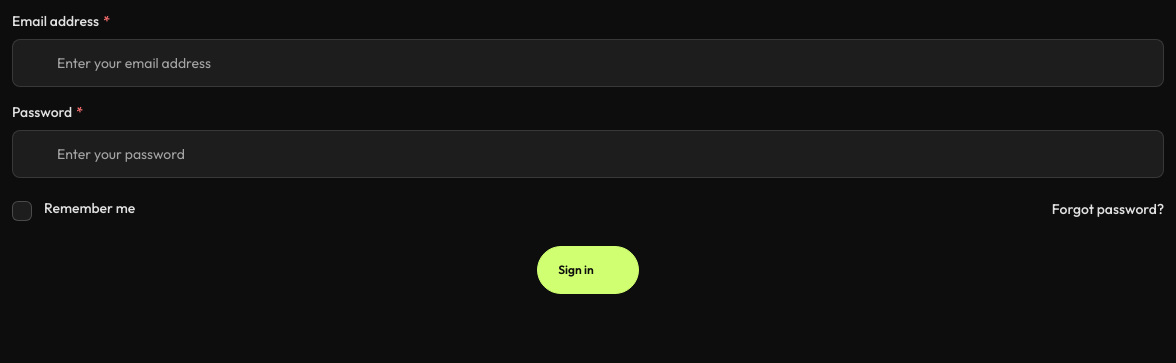
Test case: LoginForm › validates the form before making a request
Click the button "Sign in": (588, 270) [537, 246, 639, 294]
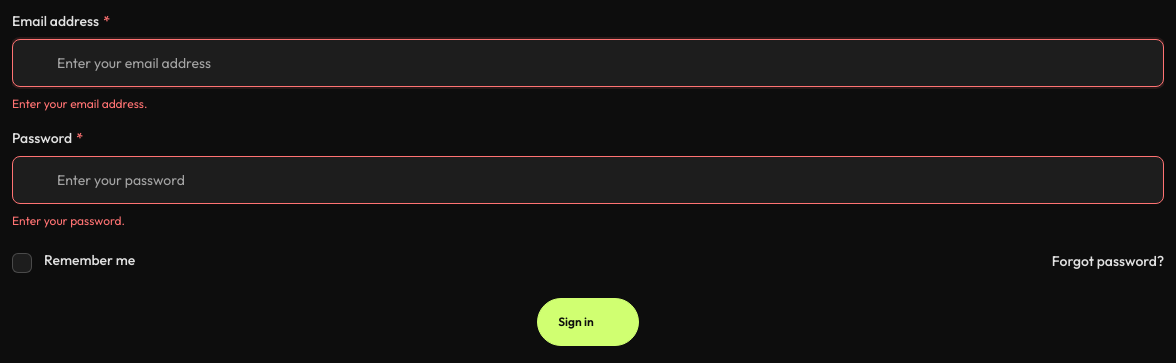
Check: the text "Enter your email address." is shown, box [12, 96, 147, 111]
Check: the text "Enter your password." is shown, box [12, 213, 125, 228]
